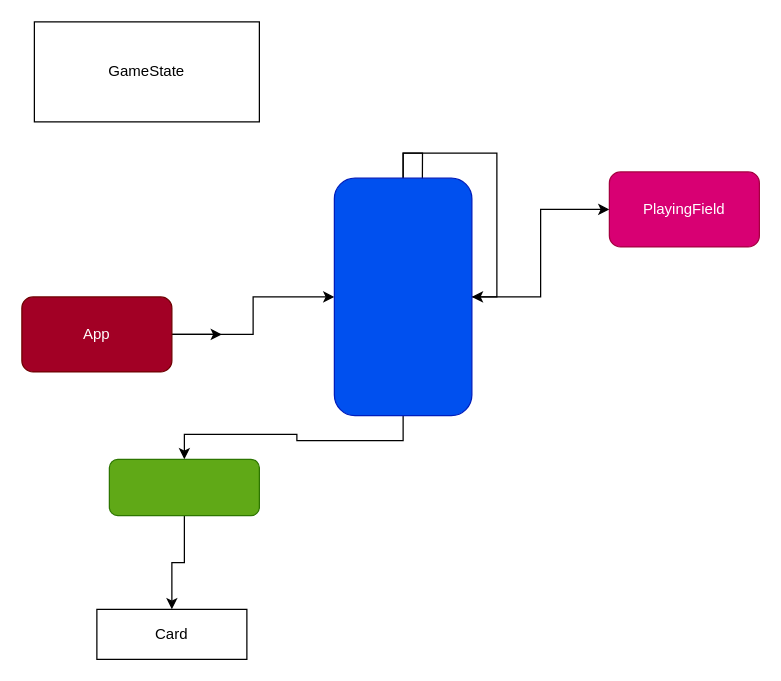
The diagram is 781 pixels wide and 681 high, and some of its shapes have lost their labels. The shapes that lost their labels are listed below. From the top down, each one's box as (x1, y1, x2, y2) in pixels, then its label:
(333, 177, 472, 416): Game: generateCard
(108, 458, 259, 516): Player
